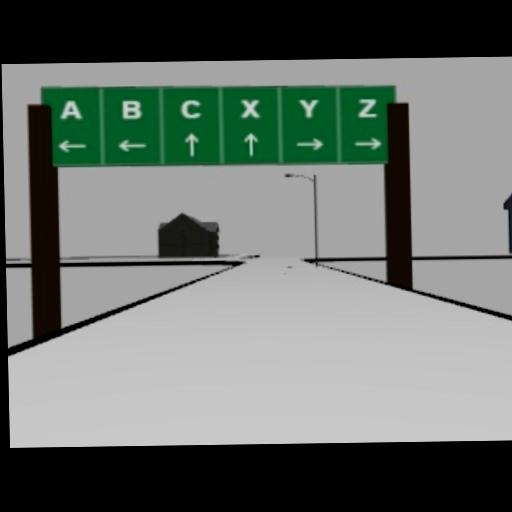A: (59, 99, 82, 119)
B: (121, 99, 142, 119)
C: (180, 98, 201, 118)
Left: (118, 138, 147, 152), (57, 139, 86, 153)
Right: (296, 138, 325, 151), (353, 137, 381, 150)
Straight: (183, 131, 199, 155), (243, 132, 258, 155)
X: (240, 97, 261, 117)
Y: (298, 98, 319, 119)
Z: (356, 97, 377, 118)
